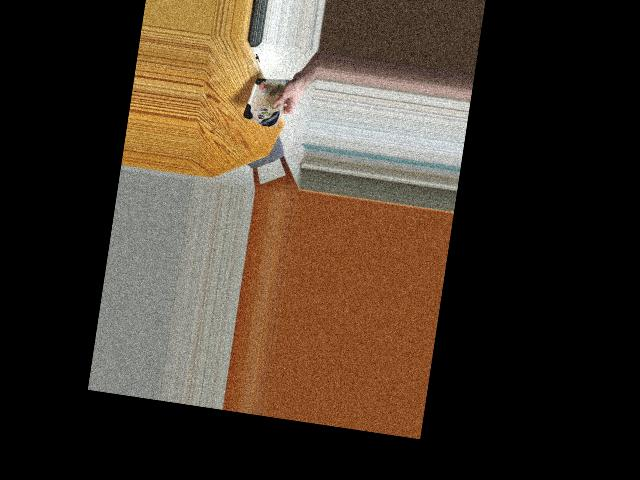cheese: (245, 68, 289, 131)
